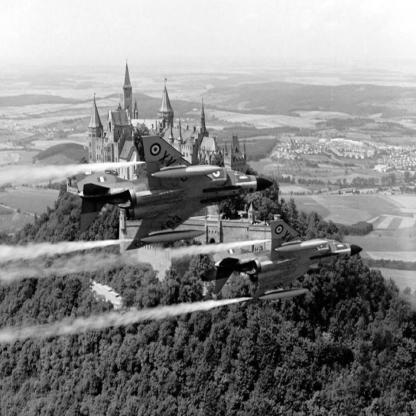F4: (76, 135, 274, 252), (210, 220, 364, 308)
